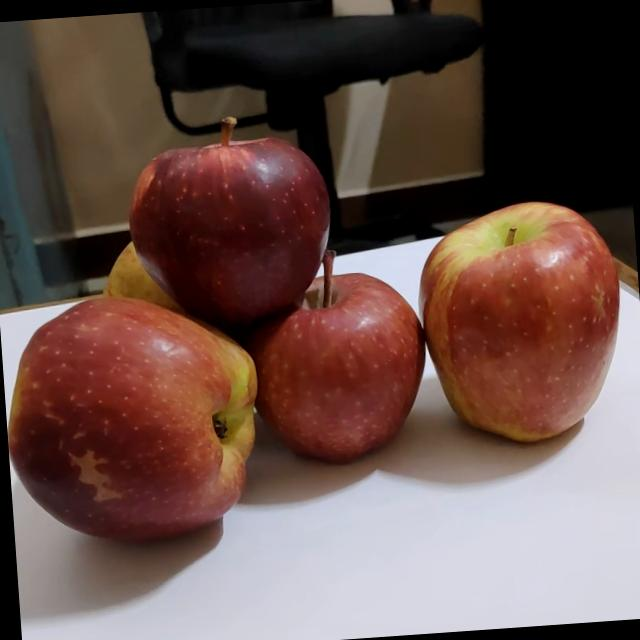apple: (0, 283, 276, 556), (414, 193, 634, 455), (120, 104, 344, 329), (240, 242, 440, 474), (94, 225, 209, 332)
